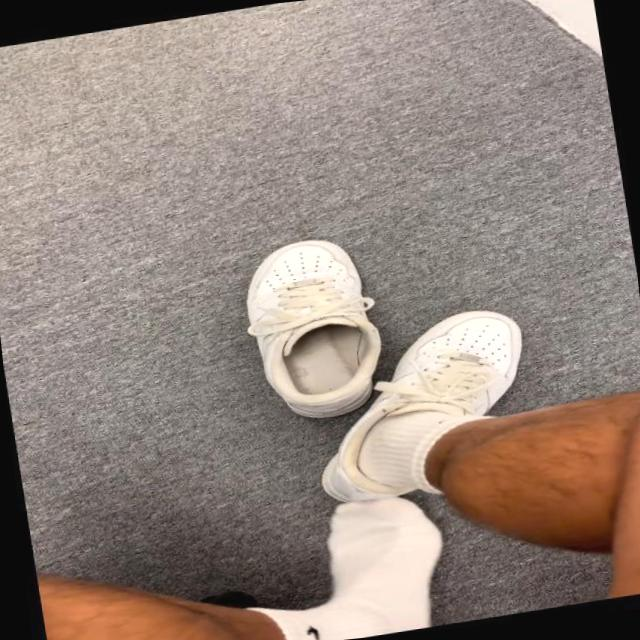nike_original_airforce: (296, 298, 554, 522), (228, 232, 401, 436)
